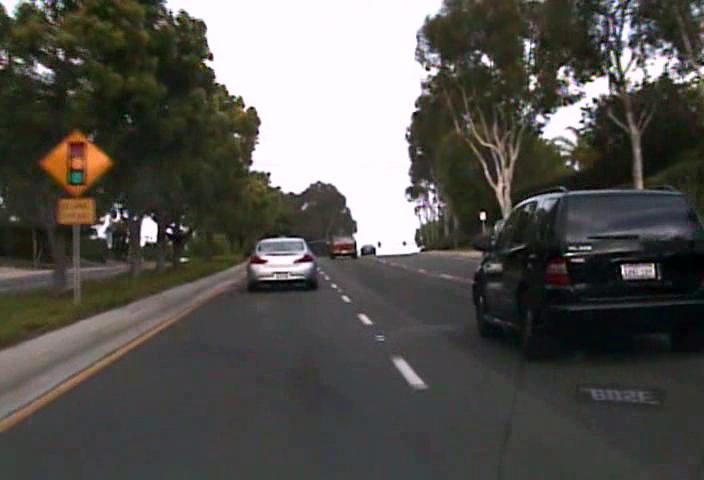signalAhead: (38, 127, 113, 199)
